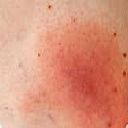Cellulitis: (54, 29, 122, 93)
